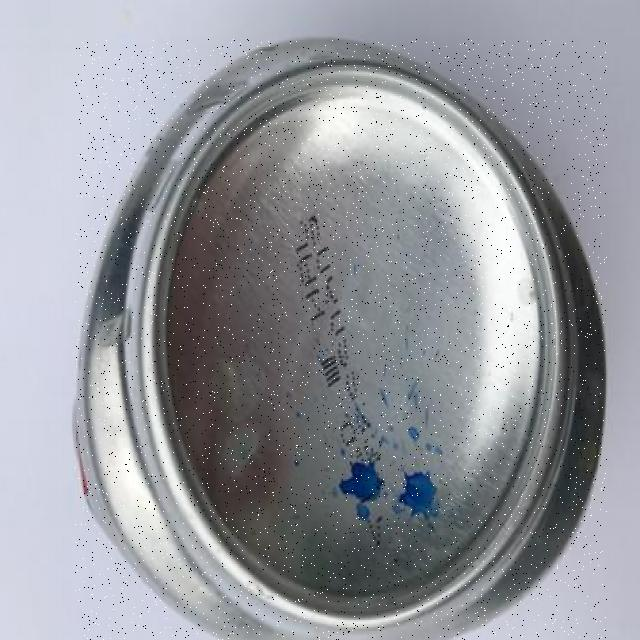metal: (75, 39, 607, 640)
